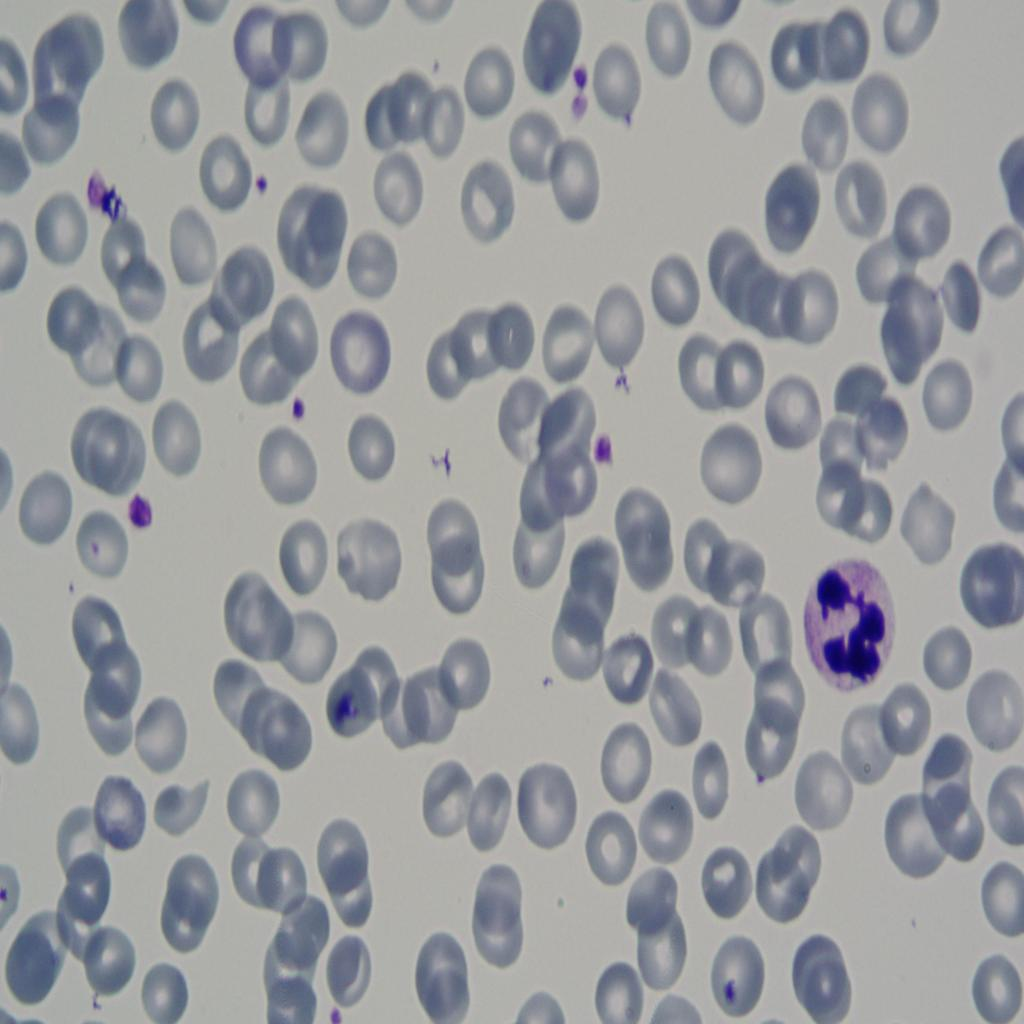Neutrofil: (801, 543, 907, 703)
Platelet: (281, 395, 324, 442), (76, 158, 112, 210), (126, 477, 160, 530), (323, 987, 358, 1024), (591, 420, 615, 467), (252, 162, 276, 205), (565, 58, 595, 90), (574, 98, 594, 136)
